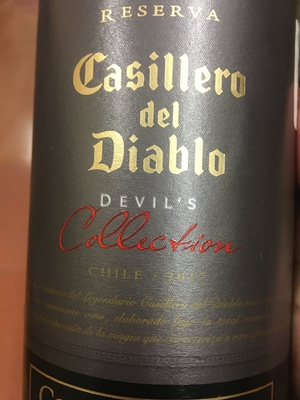casillero del diablo devils collection rojo: (22, 6, 297, 400)
